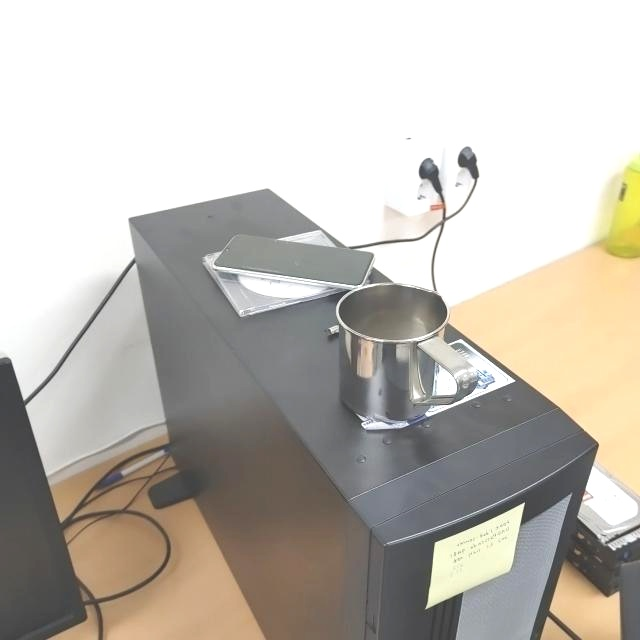cup: (337, 282, 477, 422)
phone: (210, 232, 374, 291)
